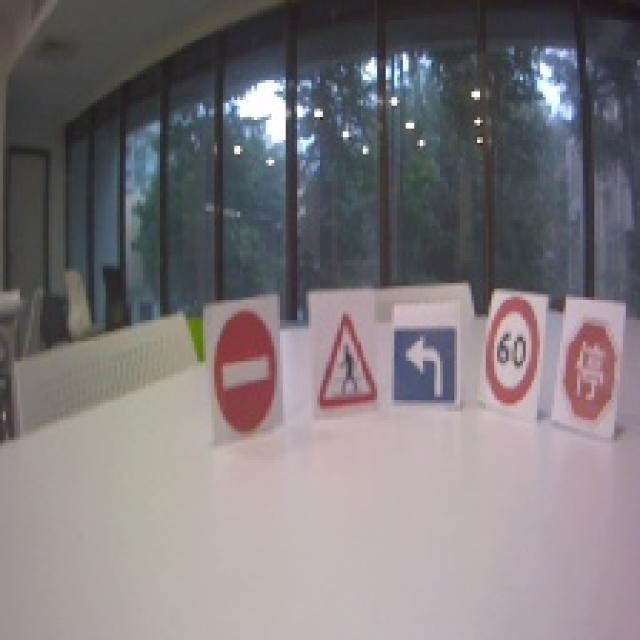DoNotEnterSign: (215, 311, 279, 436)
